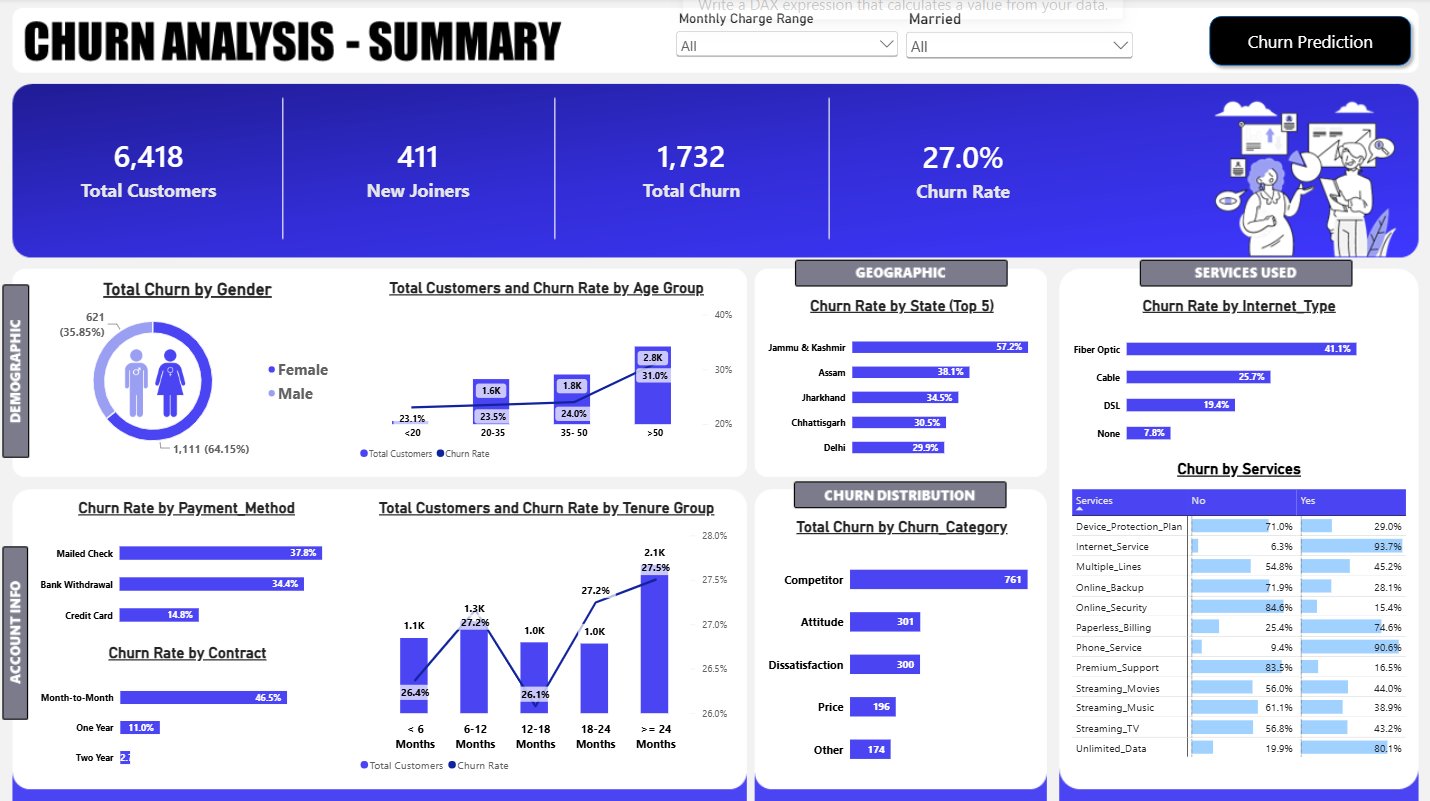

The page's visual inventory and layout, read from the dashboard file:
{"tool":"powerbi","page":{"name":"Summary","canvas":[1920,1080],"ordinal":0},"visuals":[{"type":"image","box":[148.2,454.9,123.5,117.3],"z":0},{"type":"card","fields":{"Values":["tbl_Measures.Total Customers"]},"box":[20.6,107,360.2,240.8],"z":1000},{"type":"card","fields":{"Values":["tbl_Measures.New Joiners"]},"box":[380.8,107,362.3,240.8],"z":2000},{"type":"card","fields":{"Values":["tbl_Measures.Total Churn"]},"box":[743.1,107,368.4,240.8],"z":3000},{"type":"card","fields":{"Values":["tbl_Measures.Churn Rate"]},"box":[1113.6,109.1,356.1,238.8],"z":4000},{"type":"donutChart","fields":{"Category":["prod_Churn.Gender"],"Y":["tbl_Measures.Total Churn"]},"box":[39.1,362.3,428.1,277.9],"z":5000},{"type":"lineStackedColumnComboChart","fields":{"Category":["mapping_AgeGrp.Age Group"],"Y":["tbl_Measures.Total Customers"],"Y2":["tbl_Measures.Churn Rate"]},"box":[467.2,362.3,533.1,277.9],"z":6000},{"type":"clusteredBarChart","fields":{"Category":["prod_Churn.Payment_Method"],"Y":["tbl_Measures.Churn Rate"]},"box":[39.1,656.6,426.1,214.1],"z":7000},{"type":"clusteredBarChart","fields":{"Category":["prod_Churn.Contract"],"Y":["tbl_Measures.Churn Rate"]},"box":[39.1,850.1,428.1,209.9],"z":8000},{"type":"lineStackedColumnComboChart","fields":{"Category":["mapping_TenureGrp.Tenure Group"],"Y":["tbl_Measures.Total Customers"],"Y2":["tbl_Measures.Churn Rate"]},"box":[467.2,656.6,533.1,401.4],"z":9000},{"type":"clusteredBarChart","title":"Churn Rate by State (Top 5)","fields":{"Category":["prod_Churn.State"],"Y":["tbl_Measures.Churn Rate"]},"box":[1012.7,384.9,393.1,255.2],"z":10000},{"type":"clusteredBarChart","fields":{"Category":["prod_Churn.Churn_Category"],"Y":["tbl_Measures.Total Churn"]},"box":[1012.7,681.3,393.1,378.7],"z":11000},{"type":"clusteredBarChart","fields":{"Category":["prod_Churn.Internet_Type"],"Y":["tbl_Measures.Churn Rate"]},"box":[1422.3,384.9,479.6,238.8],"z":12000},{"type":"pivotTable","title":"Churn by Services","fields":{"Columns":["prod_Services.Status"],"Rows":["prod_Services.Services"],"Values":["Sum(prod_Services.Churn Status)"]},"box":[1422.3,605.1,479.6,454.9],"z":13000},{"type":"slicer","fields":{"Values":["prod_Services.Monthly Charge Status"]},"box":[903.6,16.5,306.7,82.3],"z":14000},{"type":"slicer","fields":{"Values":["prod_Services.Married"]},"box":[1210.3,14.4,312.9,84.4],"z":15000},{"type":"shape","box":[1613.7,14.4,288.2,84.4],"z":15001}]}

Visuals, with their boxes in screenshot pixels (x1, y1, x2, y2), scaled from the page's 1920x1080 canvas onto the 1430x801 screenshot:
image: <bbox>110, 337, 202, 424</bbox>
card - tbl_Measures.Total Customers: <bbox>15, 79, 284, 258</bbox>
card - tbl_Measures.New Joiners: <bbox>284, 79, 553, 258</bbox>
card - tbl_Measures.Total Churn: <bbox>553, 79, 828, 258</bbox>
card - tbl_Measures.Churn Rate: <bbox>829, 81, 1095, 258</bbox>
donutChart - prod_Churn.Gender x tbl_Measures.Total Churn: <bbox>29, 269, 348, 475</bbox>
lineStackedColumnComboChart - mapping_AgeGrp.Age Group x tbl_Measures.Total Customers: <bbox>348, 269, 745, 475</bbox>
clusteredBarChart - prod_Churn.Payment_Method x tbl_Measures.Churn Rate: <bbox>29, 487, 346, 646</bbox>
clusteredBarChart - prod_Churn.Contract x tbl_Measures.Churn Rate: <bbox>29, 630, 348, 786</bbox>
lineStackedColumnComboChart - mapping_TenureGrp.Tenure Group x tbl_Measures.Total Customers: <bbox>348, 487, 745, 785</bbox>
"Churn Rate by State (Top 5)" clusteredBarChart: <bbox>754, 285, 1047, 475</bbox>
clusteredBarChart - prod_Churn.Churn_Category x tbl_Measures.Total Churn: <bbox>754, 505, 1047, 786</bbox>
clusteredBarChart - prod_Churn.Internet_Type x tbl_Measures.Churn Rate: <bbox>1059, 285, 1417, 463</bbox>
"Churn by Services" pivotTable: <bbox>1059, 449, 1417, 786</bbox>
slicer - prod_Services.Monthly Charge Status: <bbox>673, 12, 901, 73</bbox>
slicer - prod_Services.Married: <bbox>901, 11, 1134, 73</bbox>
shape: <bbox>1202, 11, 1417, 73</bbox>
